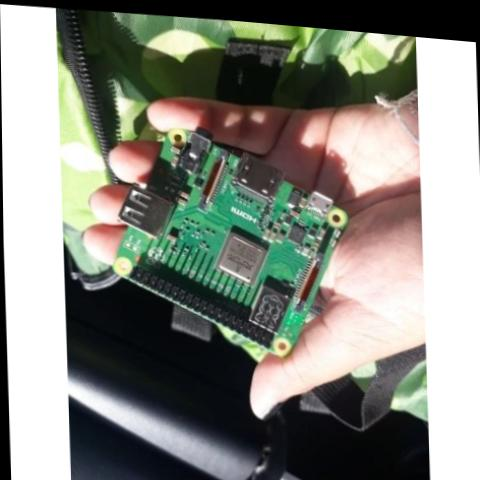Raspberry-Pi-3-Model-A-: (98, 108, 360, 370)
